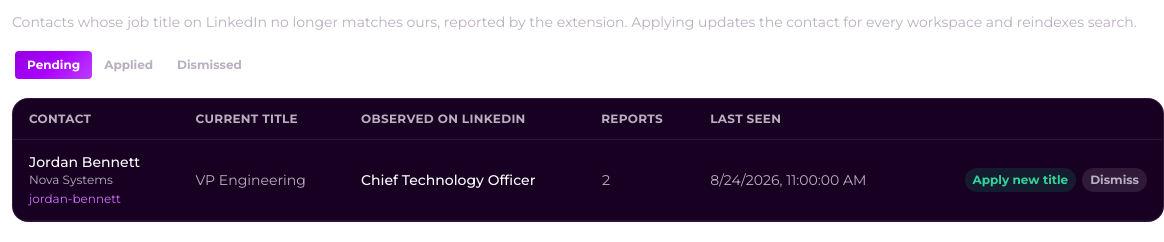
Test: AdminChildsFound › dismissing keeps the contact untouched and clears the row
Expected: the text "Jordan Bennett" is shown, [29,153,140,171]
Click the button "Dismiss" at (1115, 180), box [1082,168,1147,192]
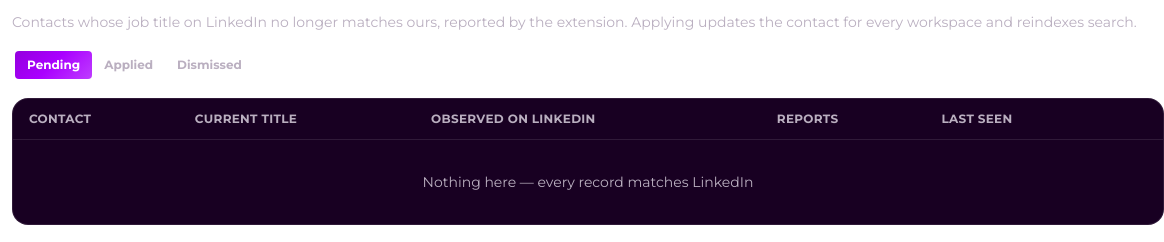
Now the text "Nothing here — every record matches LinkedIn" is shown, box [13,140,1163,224]
